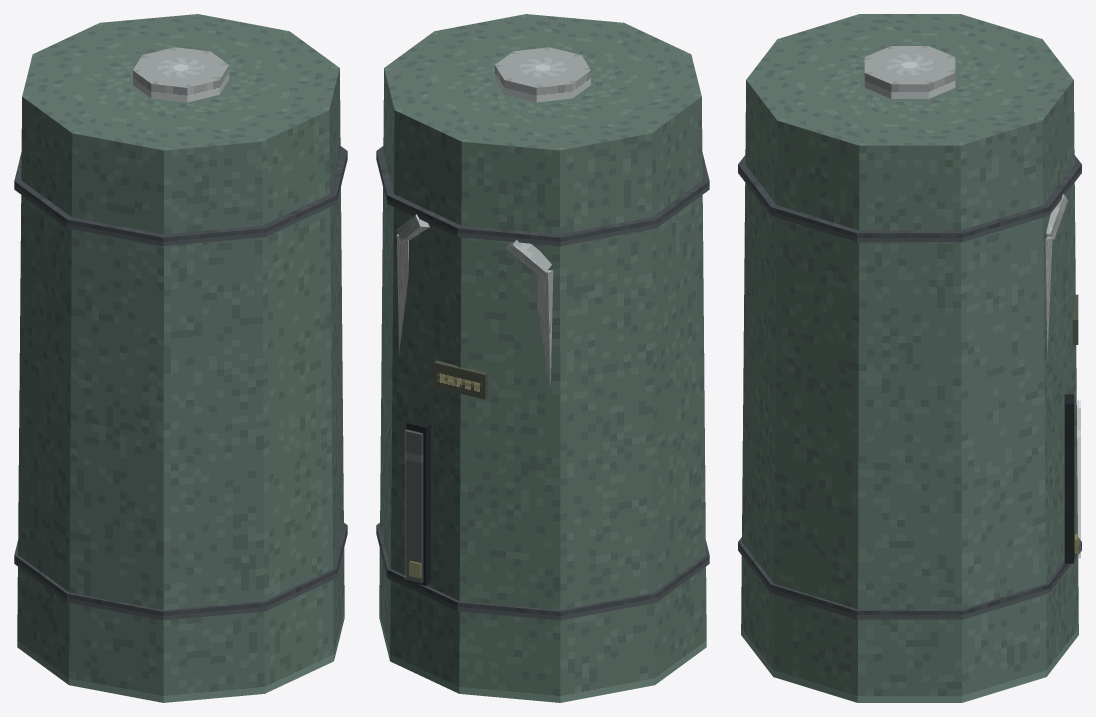
File: f_compost_empty.glb
3 renders of one model, left to right at view 1: azimuth 30°, elevation 25°; view 2: azimuth 150°, elevation 25°; view 3: azimuth 270°, elevation 25°, orthographic.
Visible parts, largest first — view 1: block_vessel-shell, block_vessel-band-0.84, block_vessel-cap, block_vessel-band-0.16; view 2: block_vessel-shell, block_vessel-band-0.84, block_vessel-cap, block_vessel-band-0.16, block_level-sight-glass-window, block_sight-glass-cover, block_digester-return-pipe-1 (×2), block_digester-charge-status, block_digester-return-pipe-2; view 3: block_vessel-shell, block_vessel-band-0.84, block_vessel-cap, block_vessel-band-0.16, block_level-sight-glass-window, block_sight-glass-cover.
Part boxes in pixels (x1=…): block_vessel-shell: x1=17, y1=14, x2=344, y2=702; block_vessel-band-0.84: x1=14, y1=146, x2=347, y2=246; block_vessel-cap: x1=133, y1=47, x2=228, y2=102; block_vessel-band-0.16: x1=14, y1=523, x2=347, y2=620; block_vessel-shell: x1=379, y1=14, x2=706, y2=702; block_vessel-band-0.84: x1=376, y1=146, x2=709, y2=246; block_vessel-cap: x1=495, y1=47, x2=590, y2=102; block_vessel-band-0.16: x1=376, y1=523, x2=709, y2=620; block_level-sight-glass-window: x1=406, y1=419, x2=430, y2=585; block_sight-glass-cover: x1=404, y1=429, x2=423, y2=583; block_digester-return-pipe-1 (×2): x1=396, y1=234, x2=553, y2=389; block_digester-charge-status: x1=434, y1=360, x2=487, y2=399; block_digester-return-pipe-2: x1=506, y1=239, x2=551, y2=274; block_vessel-shell: x1=741, y1=14, x2=1078, y2=702; block_vessel-band-0.84: x1=738, y1=155, x2=1081, y2=242; block_vessel-cap: x1=864, y1=46, x2=955, y2=98; block_vessel-band-0.16: x1=738, y1=537, x2=1081, y2=619; block_level-sight-glass-window: x1=1064, y1=394, x2=1074, y2=563; block_sight-glass-cover: x1=1077, y1=400, x2=1080, y2=558.
Size of the model in its own units: 0.8807 by 1.69 by 0.926.
Materials: 2 (2 with a texture image).
